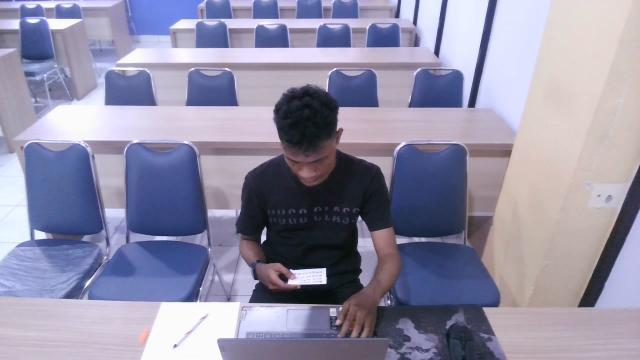Cheat_Sheet: (284, 266, 328, 288)
Head_Down_Extreme: (226, 76, 403, 325)
